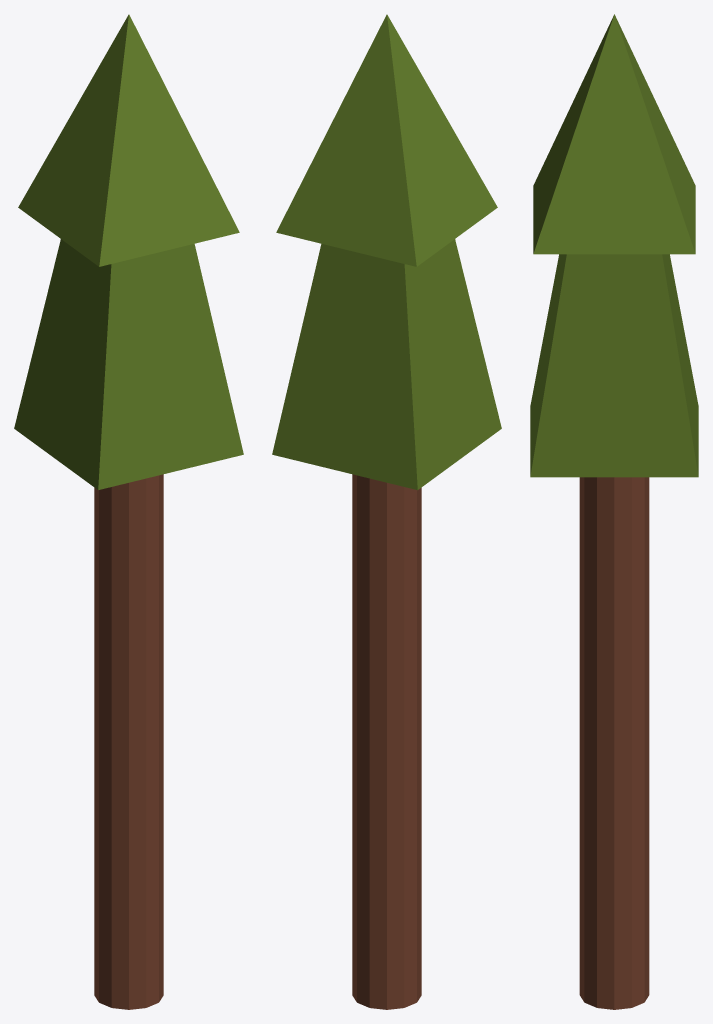
File: Tree_16_autumn_vc.fbx
3 views of the same model, side by side, from view 1: azimuth 30°, elevation 25°; view 2: azimuth 150°, elevation 25°; view 3: azimuth 270°, elevation 25° (orthographic).
Visible parts, largest first — view 1: Tree_16_autumn_vc; view 2: Tree_16_autumn_vc; view 3: Tree_16_autumn_vc.
Boxes of the visible parts, x1,y1,x2,y2 form: Tree_16_autumn_vc: (14,14,243,1009); Tree_16_autumn_vc: (272,14,501,1009); Tree_16_autumn_vc: (530,14,698,1009).
Size of the model in its own units: 1.4 by 8.98 by 1.4.
